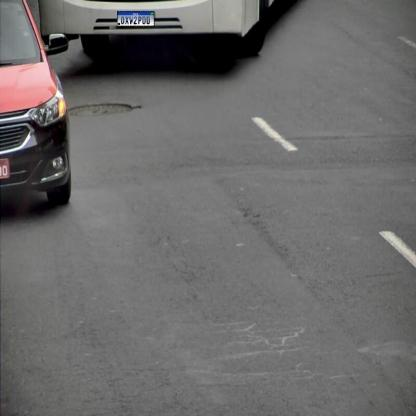PlacaM: (117, 11, 154, 26)
